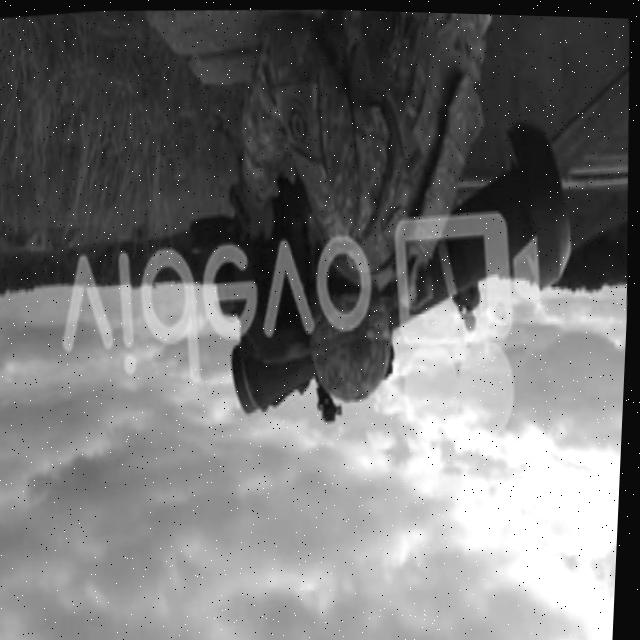rocket: (379, 106, 584, 327)
